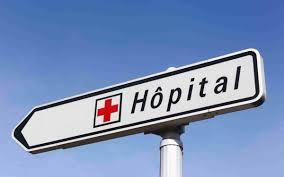Hospital: (88, 79, 260, 125)
